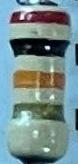Black: (9, 38, 71, 59)
Orange: (13, 69, 64, 91)
Red: (9, 10, 70, 27)
Side-Gold: (12, 104, 65, 123)
